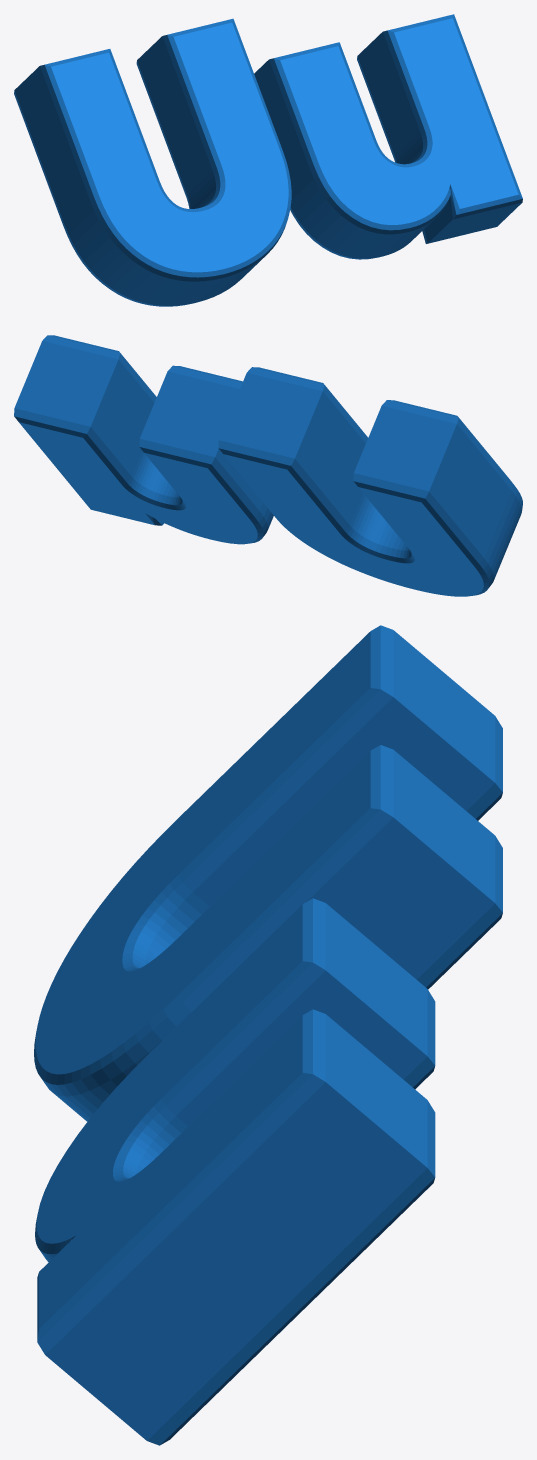
3 views of the same model, one above another, from view 1: azimuth 30°, elevation 25°; view 2: azimuth 150°, elevation 25°; view 3: azimuth 270°, elevation 25° (orthographic). The views are drawn at different scales.
Parts seen in each view (by area): view 1: letter; view 2: letter; view 3: letter.
Boxes of the visible parts, x1,y1,x2,y2 form: letter: (14,14,522,306); letter: (14,335,522,596); letter: (34,625,502,1445).
Bounding box in the file's own units: 1.84 × 0.9789 × 0.9445.
